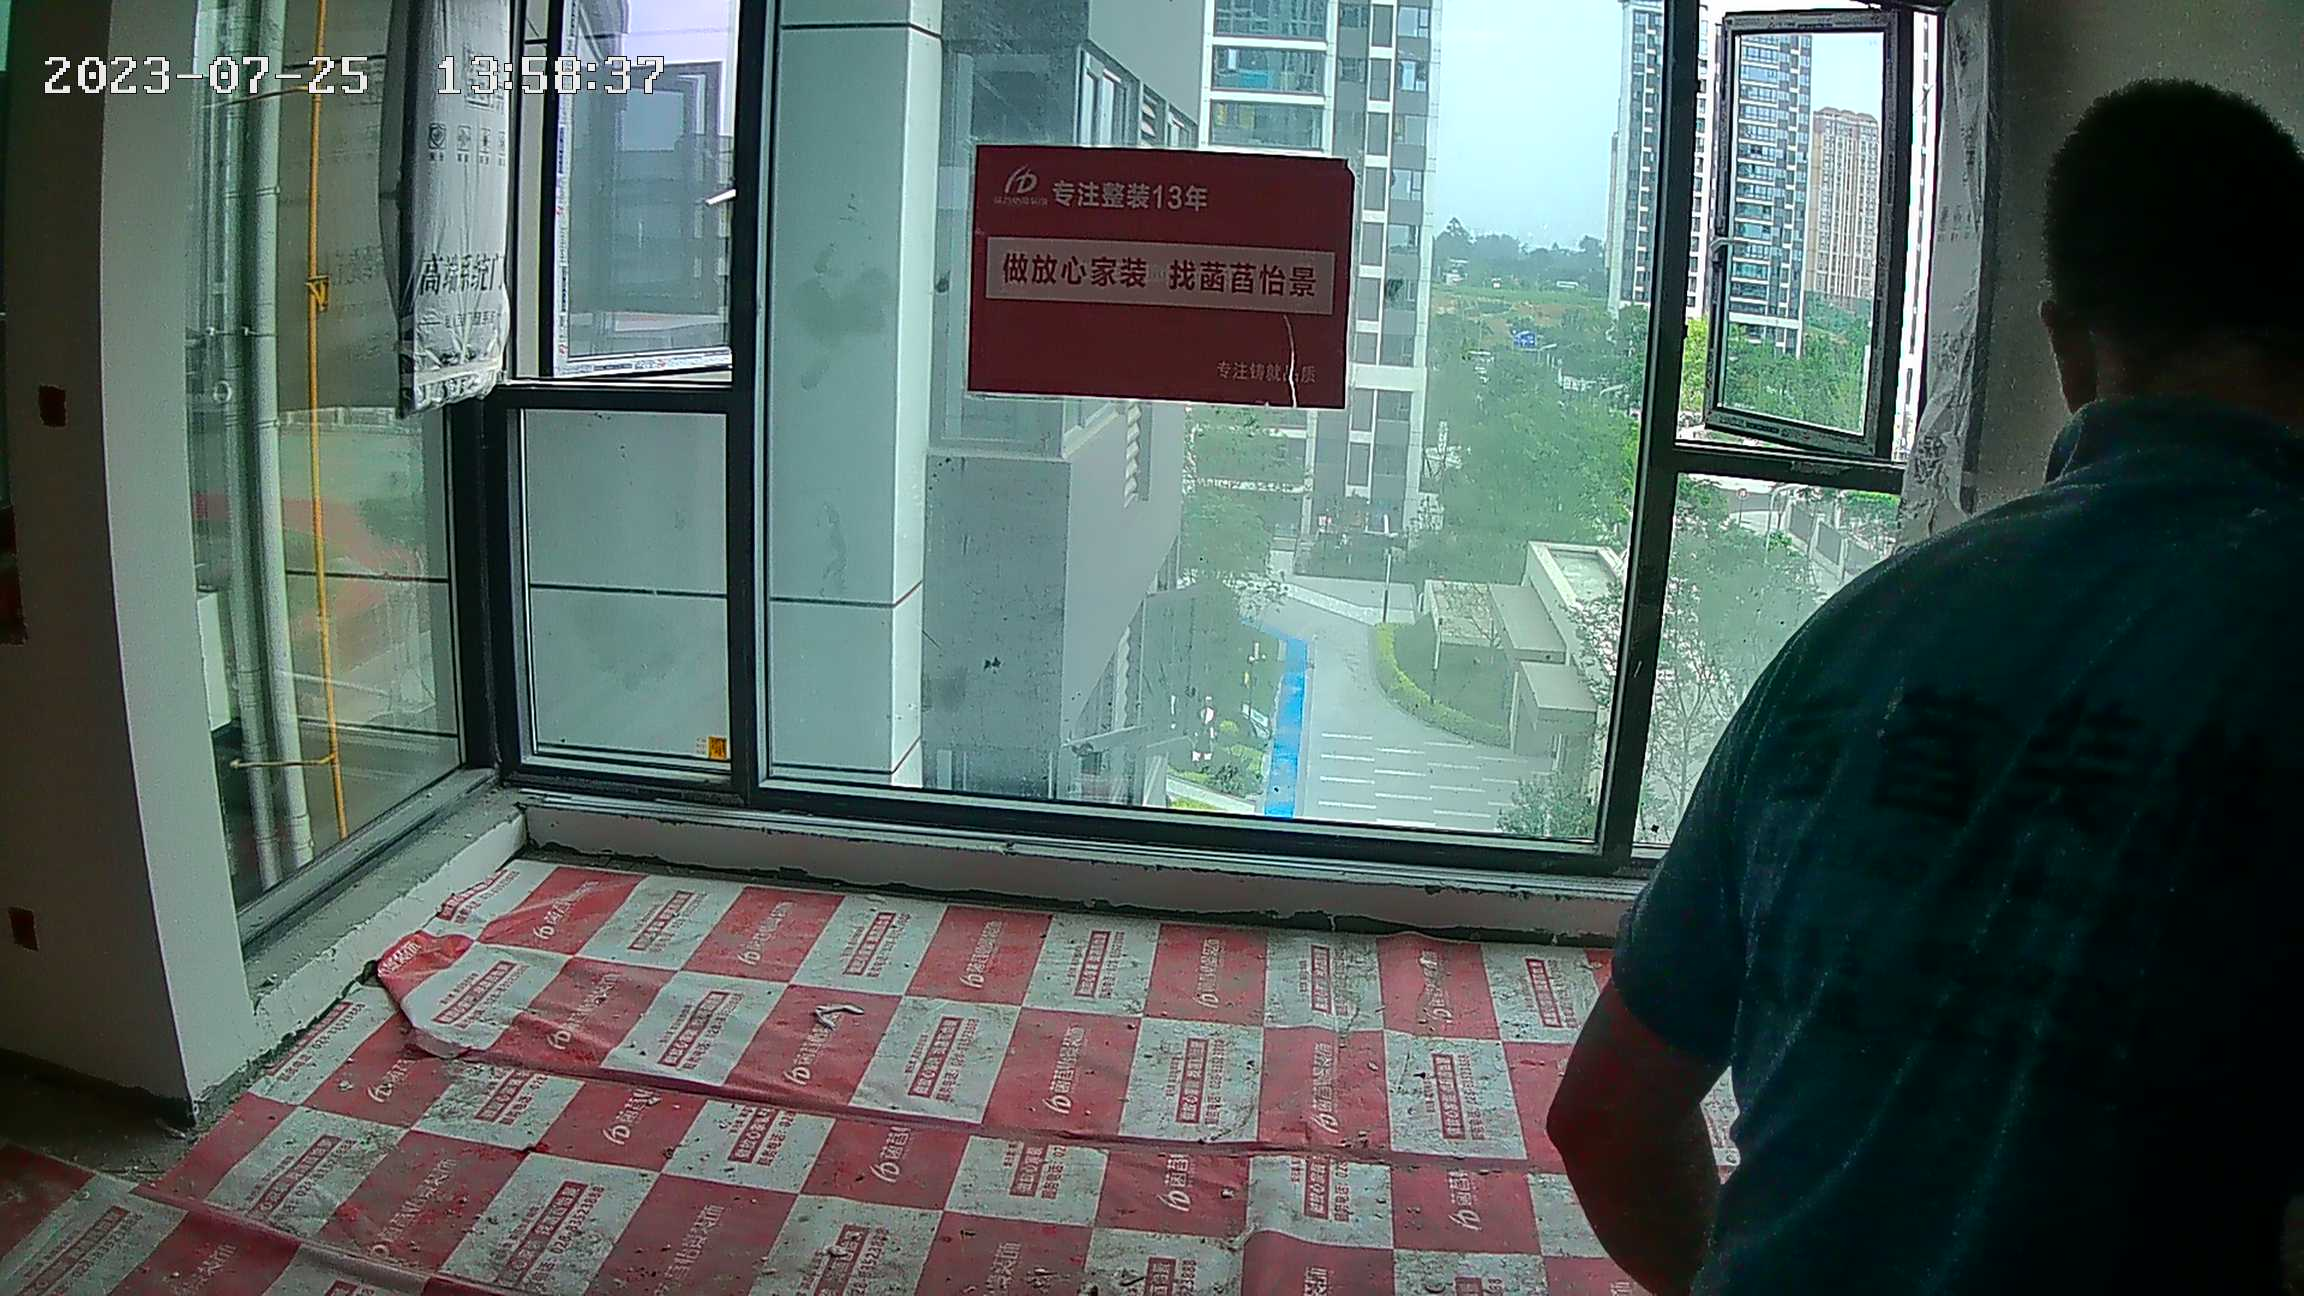people: (1549, 77, 2304, 1294)
window: (202, 5, 1937, 931)
